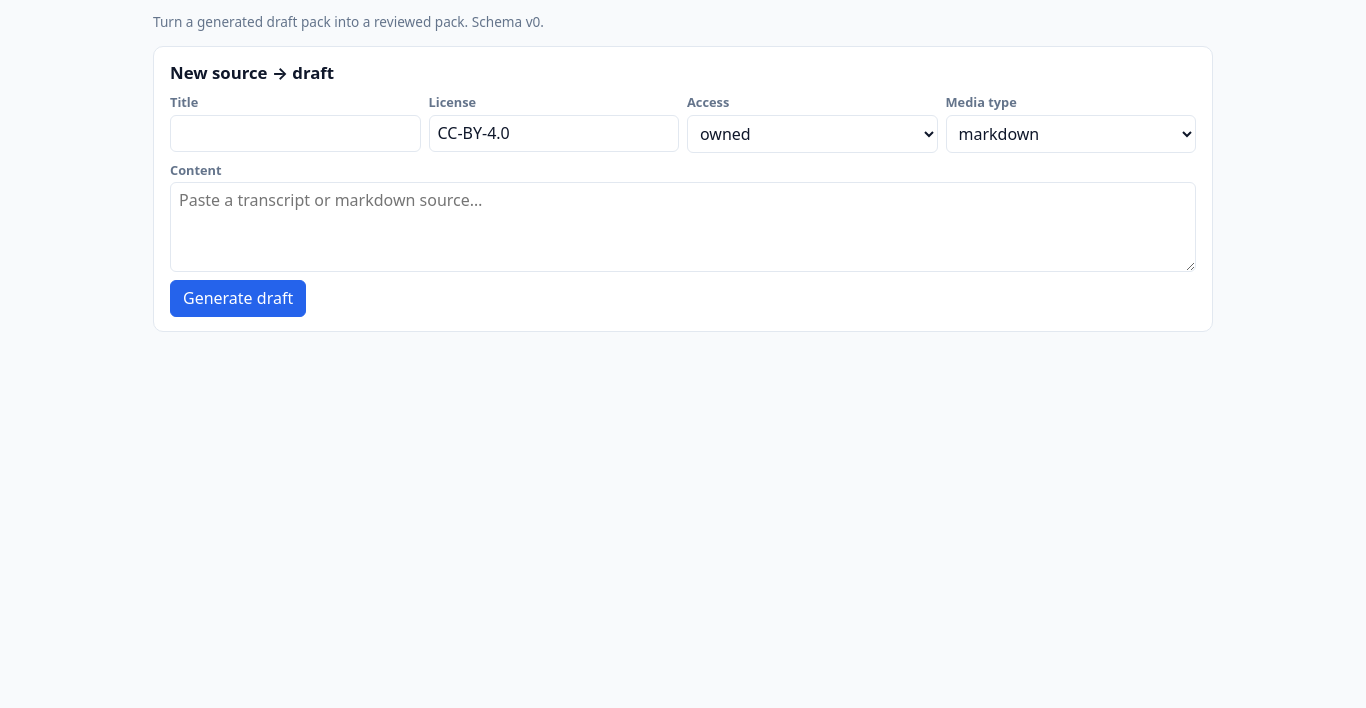
Scenario: tutor box › renders a refusal reason
The width and height of the screenshot is (1366, 708).
Type "Learning" into the field labelled "Title". click: (295, 134)
box: 170,115 -> 420,152
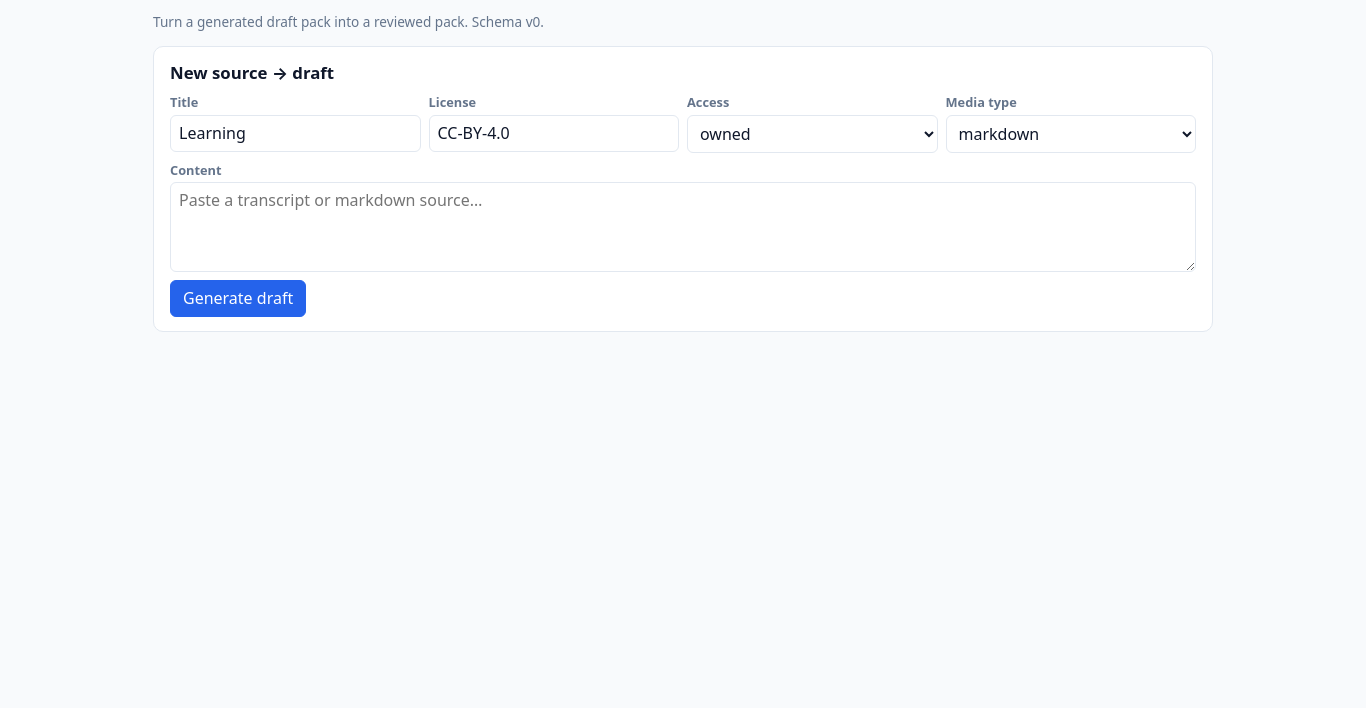
Type "spacing improves retention. memory decays over time." into the text box labelled "Content". click: (683, 227)
box: 170,182 -> 1196,272
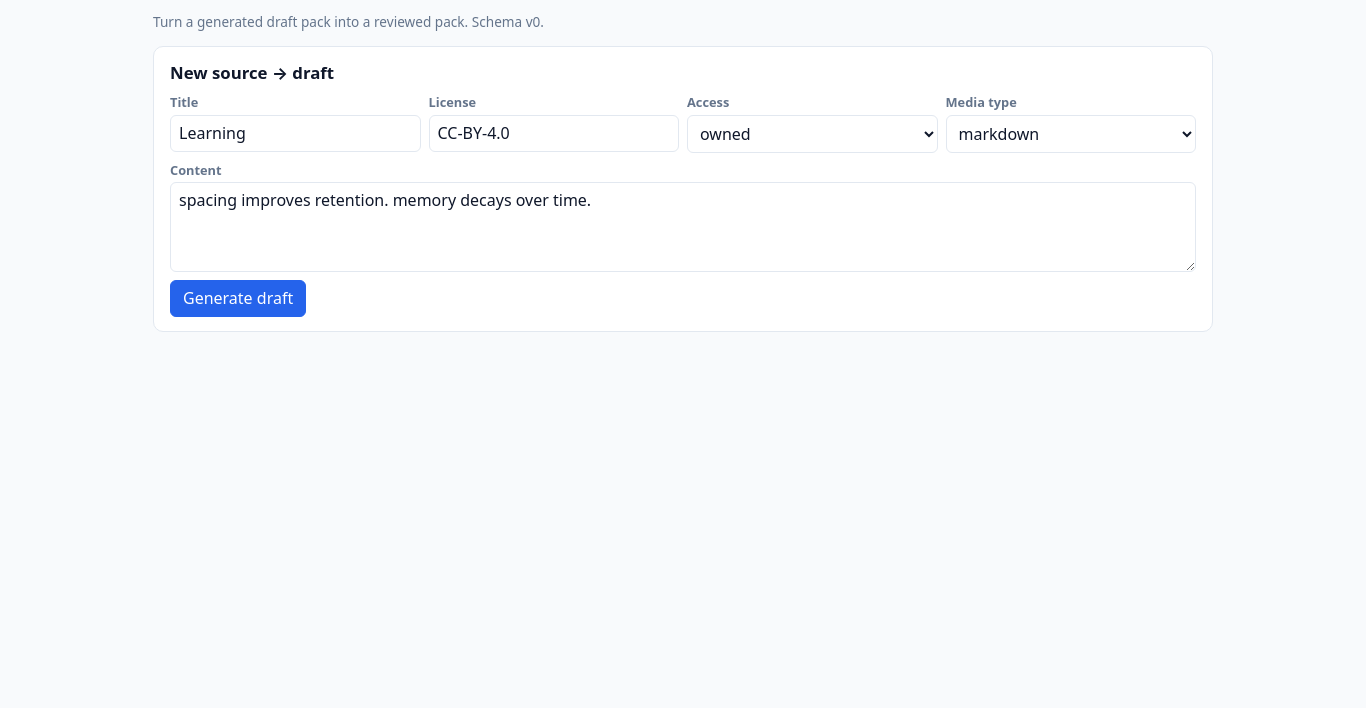
Click the button "Generate draft". click: (238, 299)
box: 170,280 -> 306,317
(page scrolled)
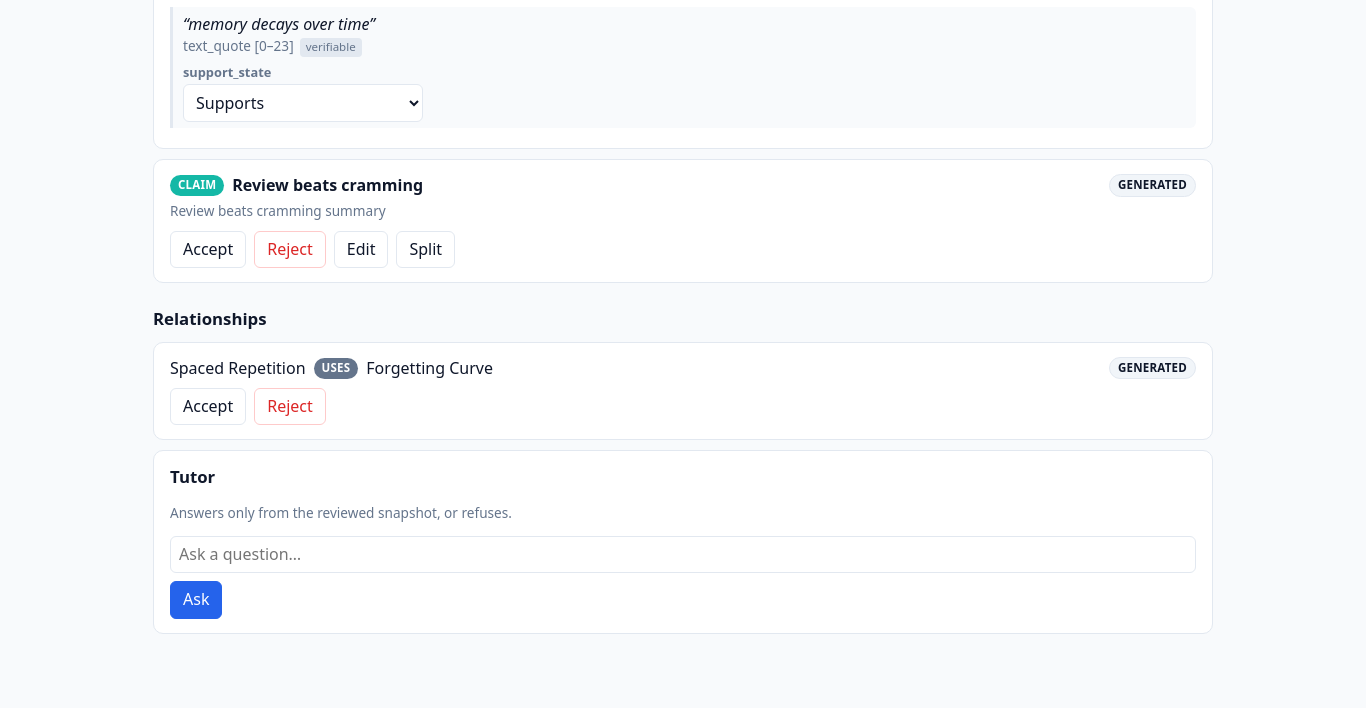
Type "anything" into the field named "Tutor question". click: (683, 555)
box: 170,536 -> 1196,573
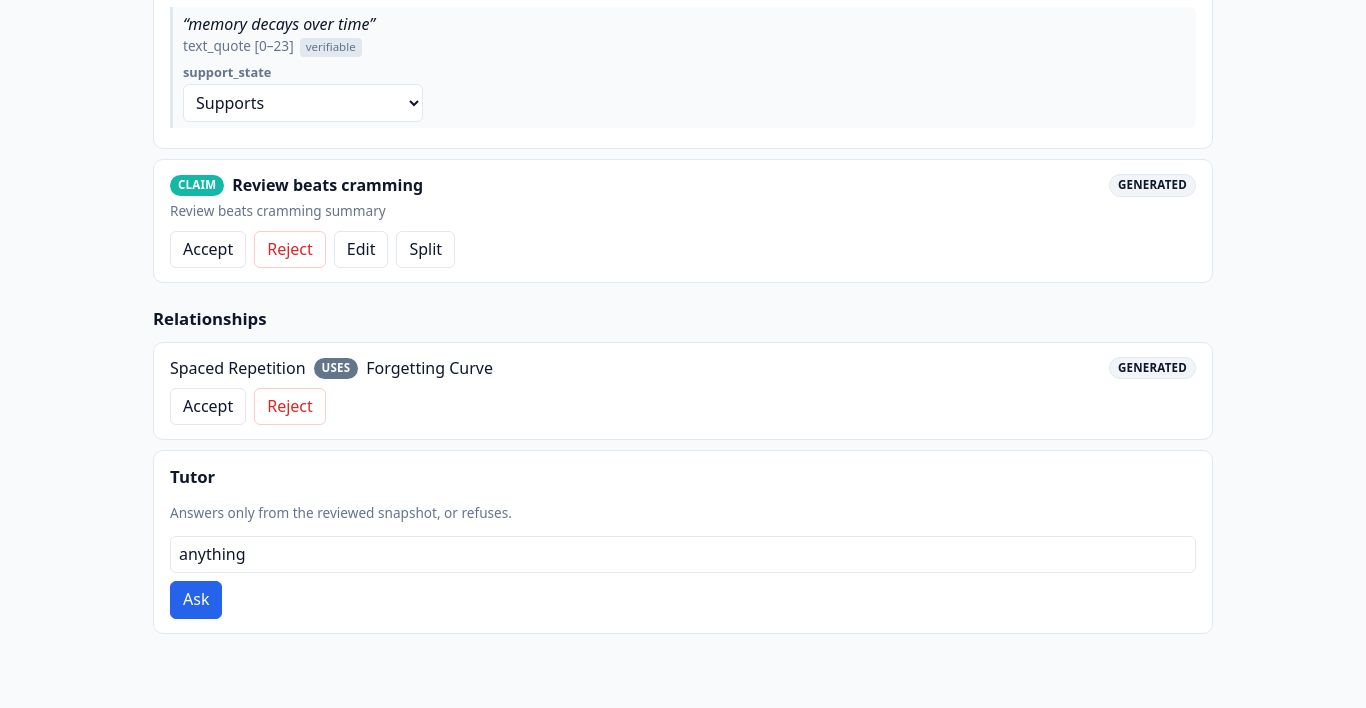
Click the button "Ask". click: (196, 600)
box: 170,581 -> 222,619
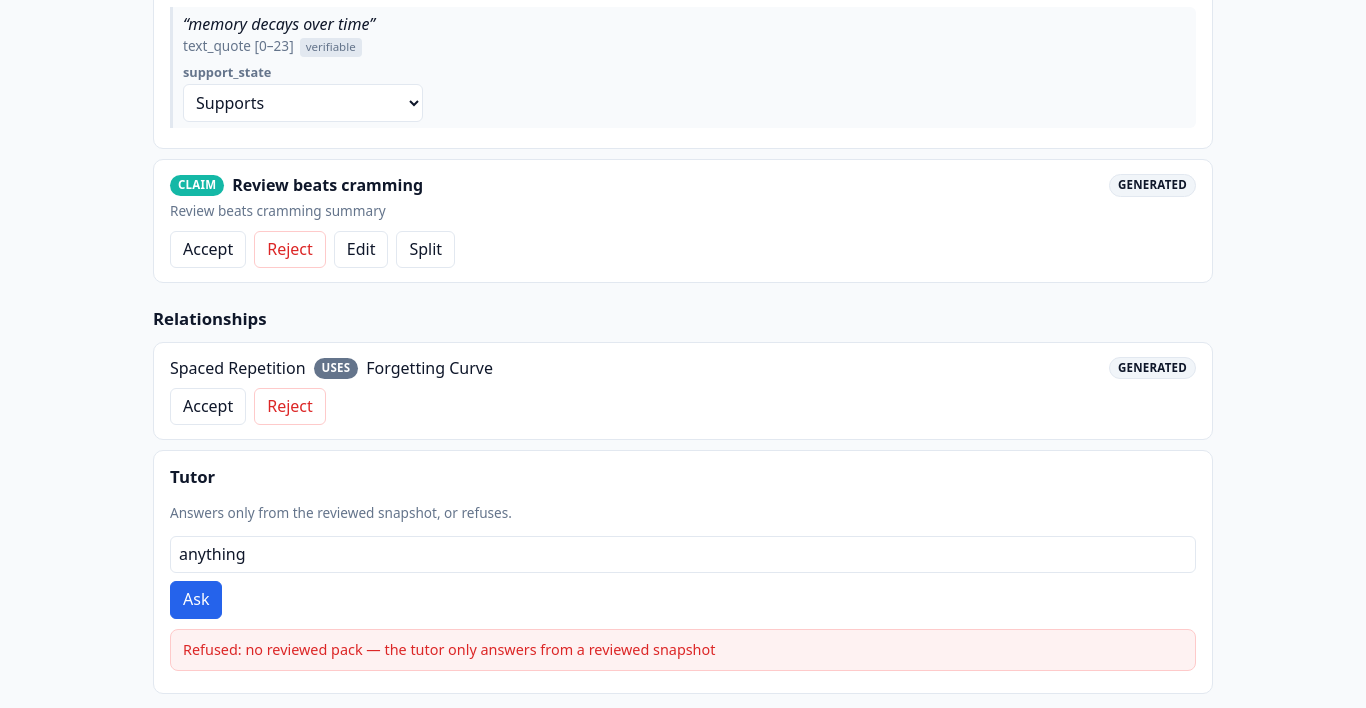
Check: the text with test id "tutor-refusal" shows "only answers from a reviewed snapshot", box 245,640 -> 715,659
